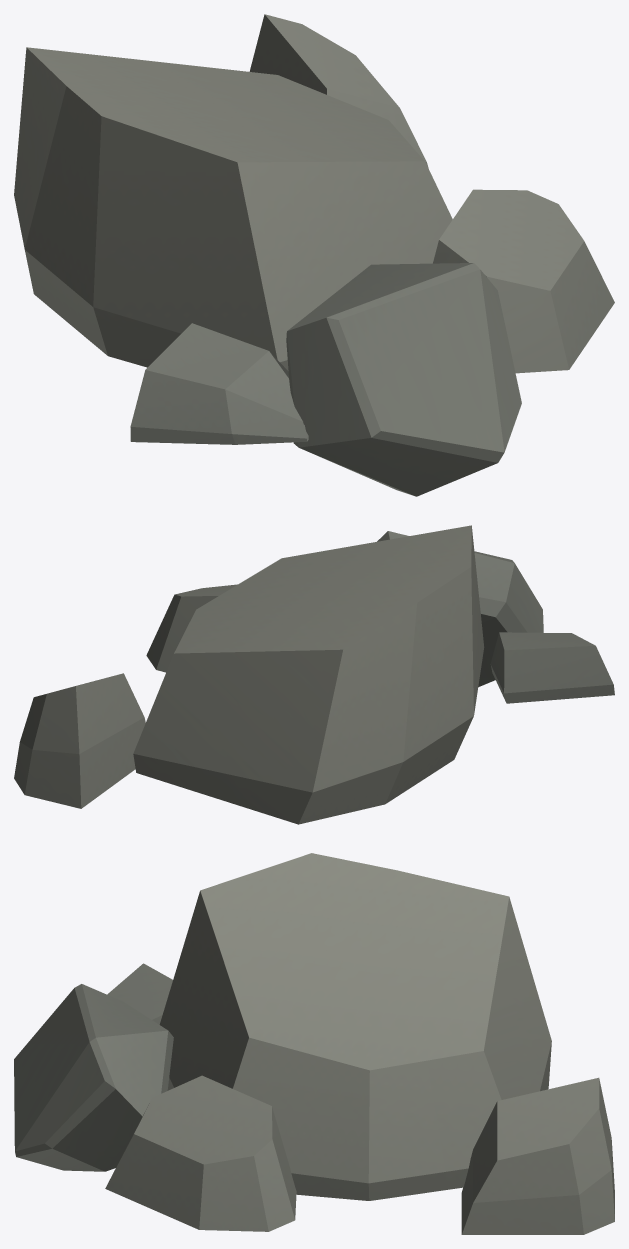
The model's file is MDL_Rock_04.fbx.
3 renders of one model, top to bottom at view 1: azimuth 30°, elevation 25°; view 2: azimuth 150°, elevation 25°; view 3: azimuth 270°, elevation 25°, orthographic. The views are drawn at different scales.
Visible parts, largest first — view 1: RockClump_D; view 2: RockClump_D; view 3: RockClump_D.
Part boxes in pixels (left/top/right/bottom): RockClump_D: left=14, top=14, right=614, bottom=496; RockClump_D: left=14, top=525, right=614, bottom=824; RockClump_D: left=14, top=853, right=614, bottom=1234.
Size of the model in its own units: 93.18 by 52.11 by 112.
